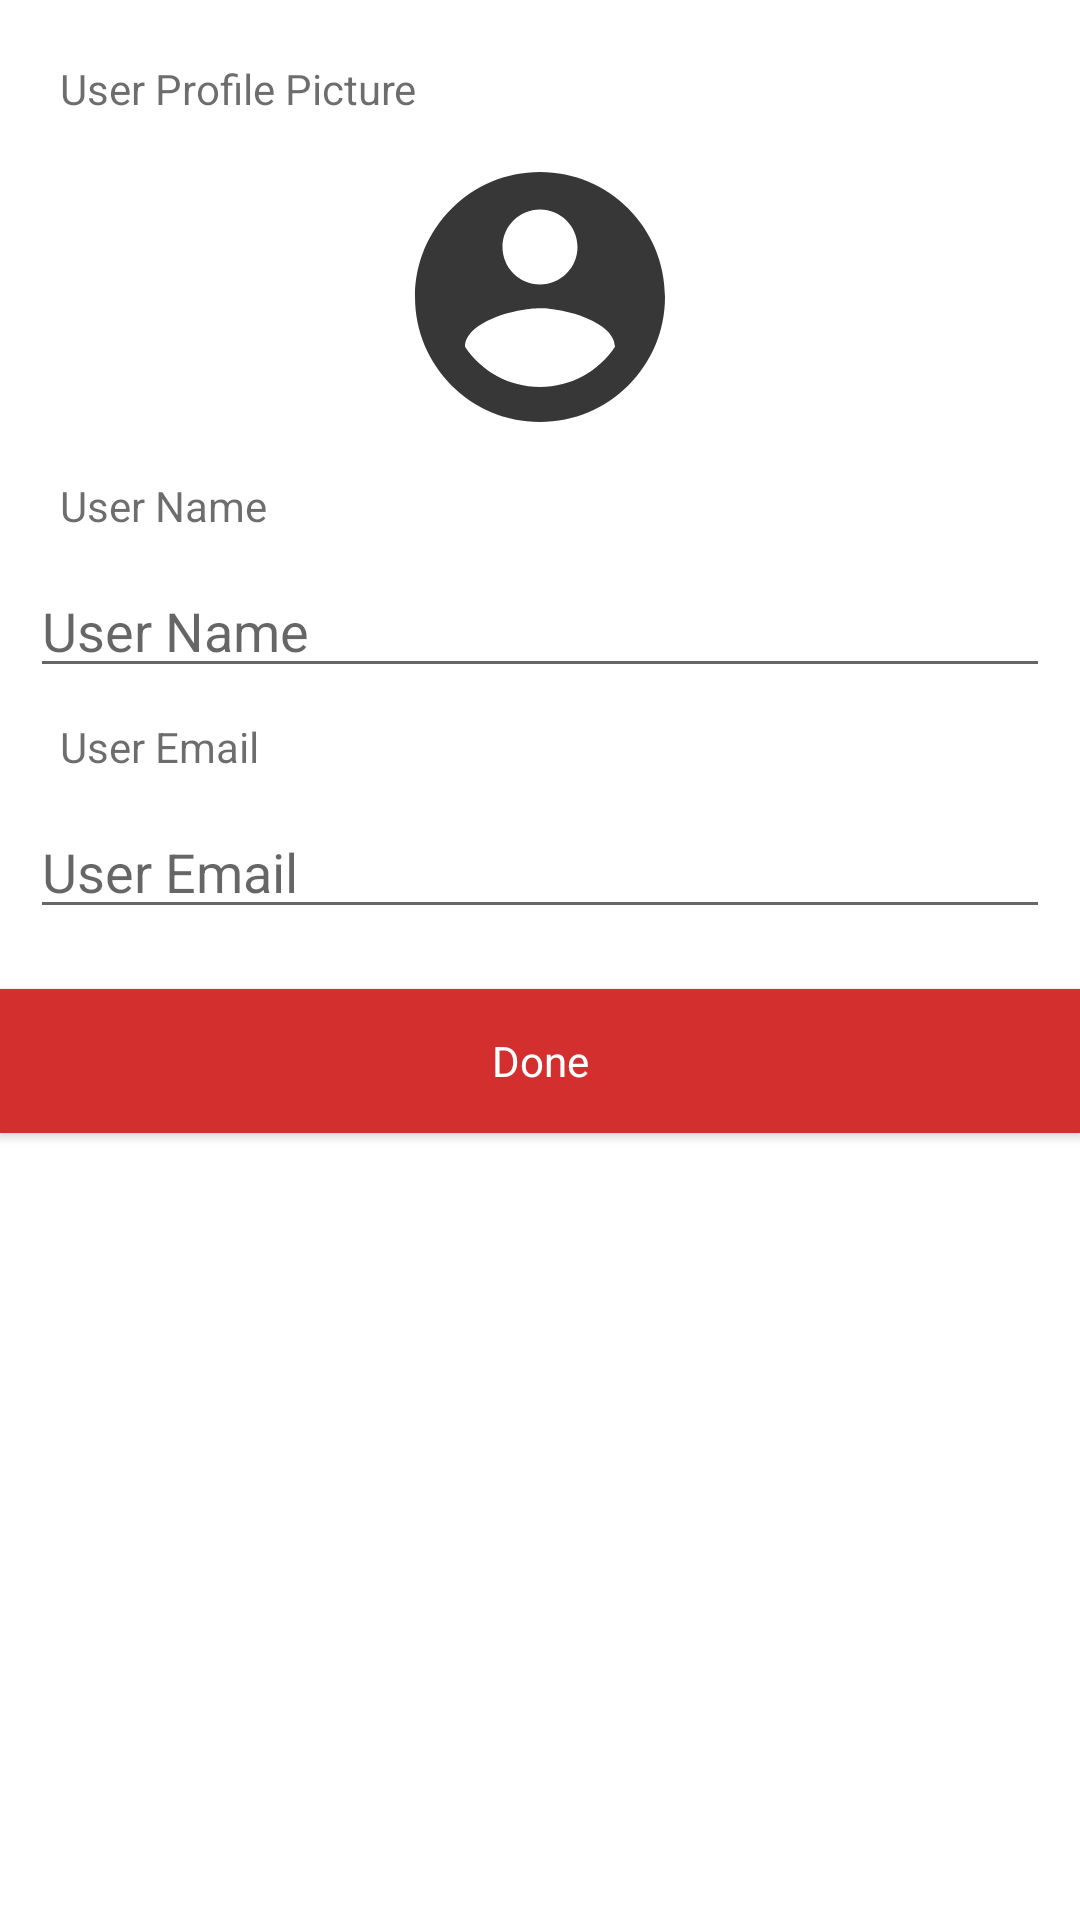

Named icons in this screenshot (1080w x 1920h) and their centers, point (x, y):
account circle: point (540, 297)
